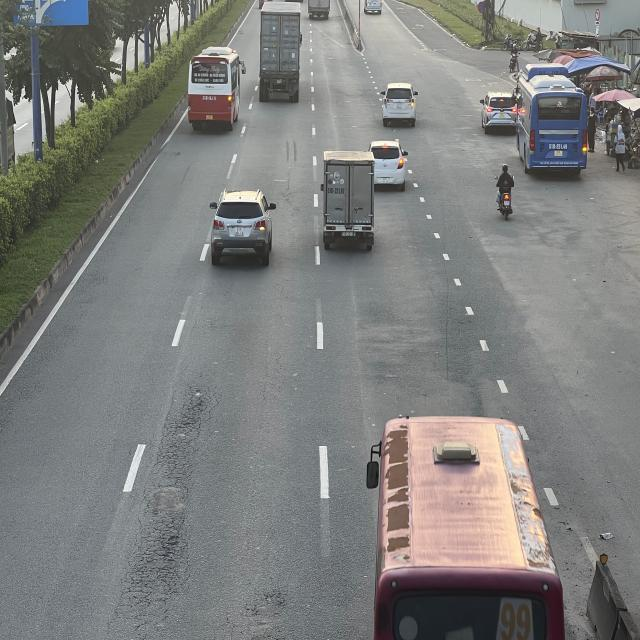car: (209, 191, 276, 266), (367, 139, 407, 189), (479, 90, 519, 132), (381, 81, 420, 123)
coach: (364, 411, 562, 636), (517, 64, 591, 178), (188, 46, 245, 130)
container: (258, 2, 302, 102)
truck: (322, 153, 375, 250)
